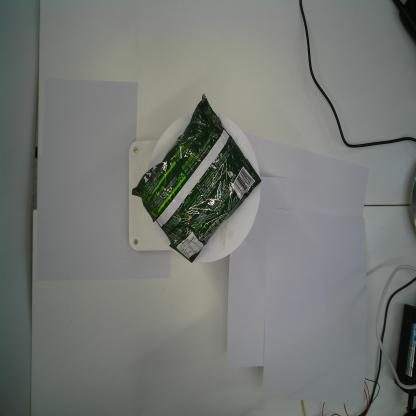Instant Noodles: (132, 93, 262, 263)
